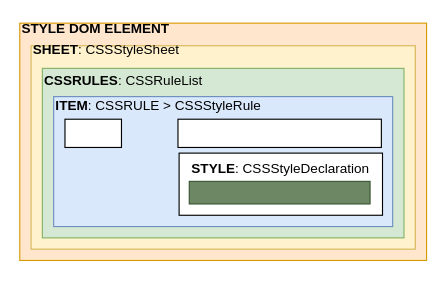
The diagram is 446 pixels wide and 283 high, and some of its shapes have lost their labels. Each missing label, with the centre of its shape:
"PROPERTIES" goes at (279,192).
"SELECTORTEXT" goes at (279,132).
"TYPE" goes at (92,132).
